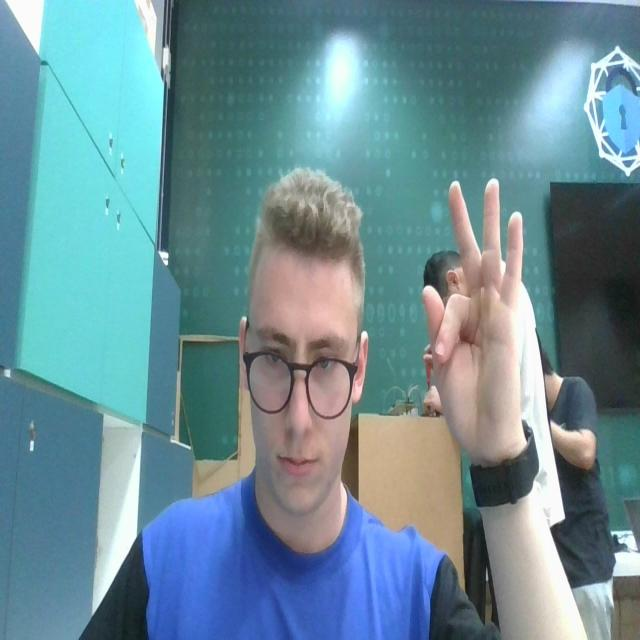F: (417, 171, 528, 455)
